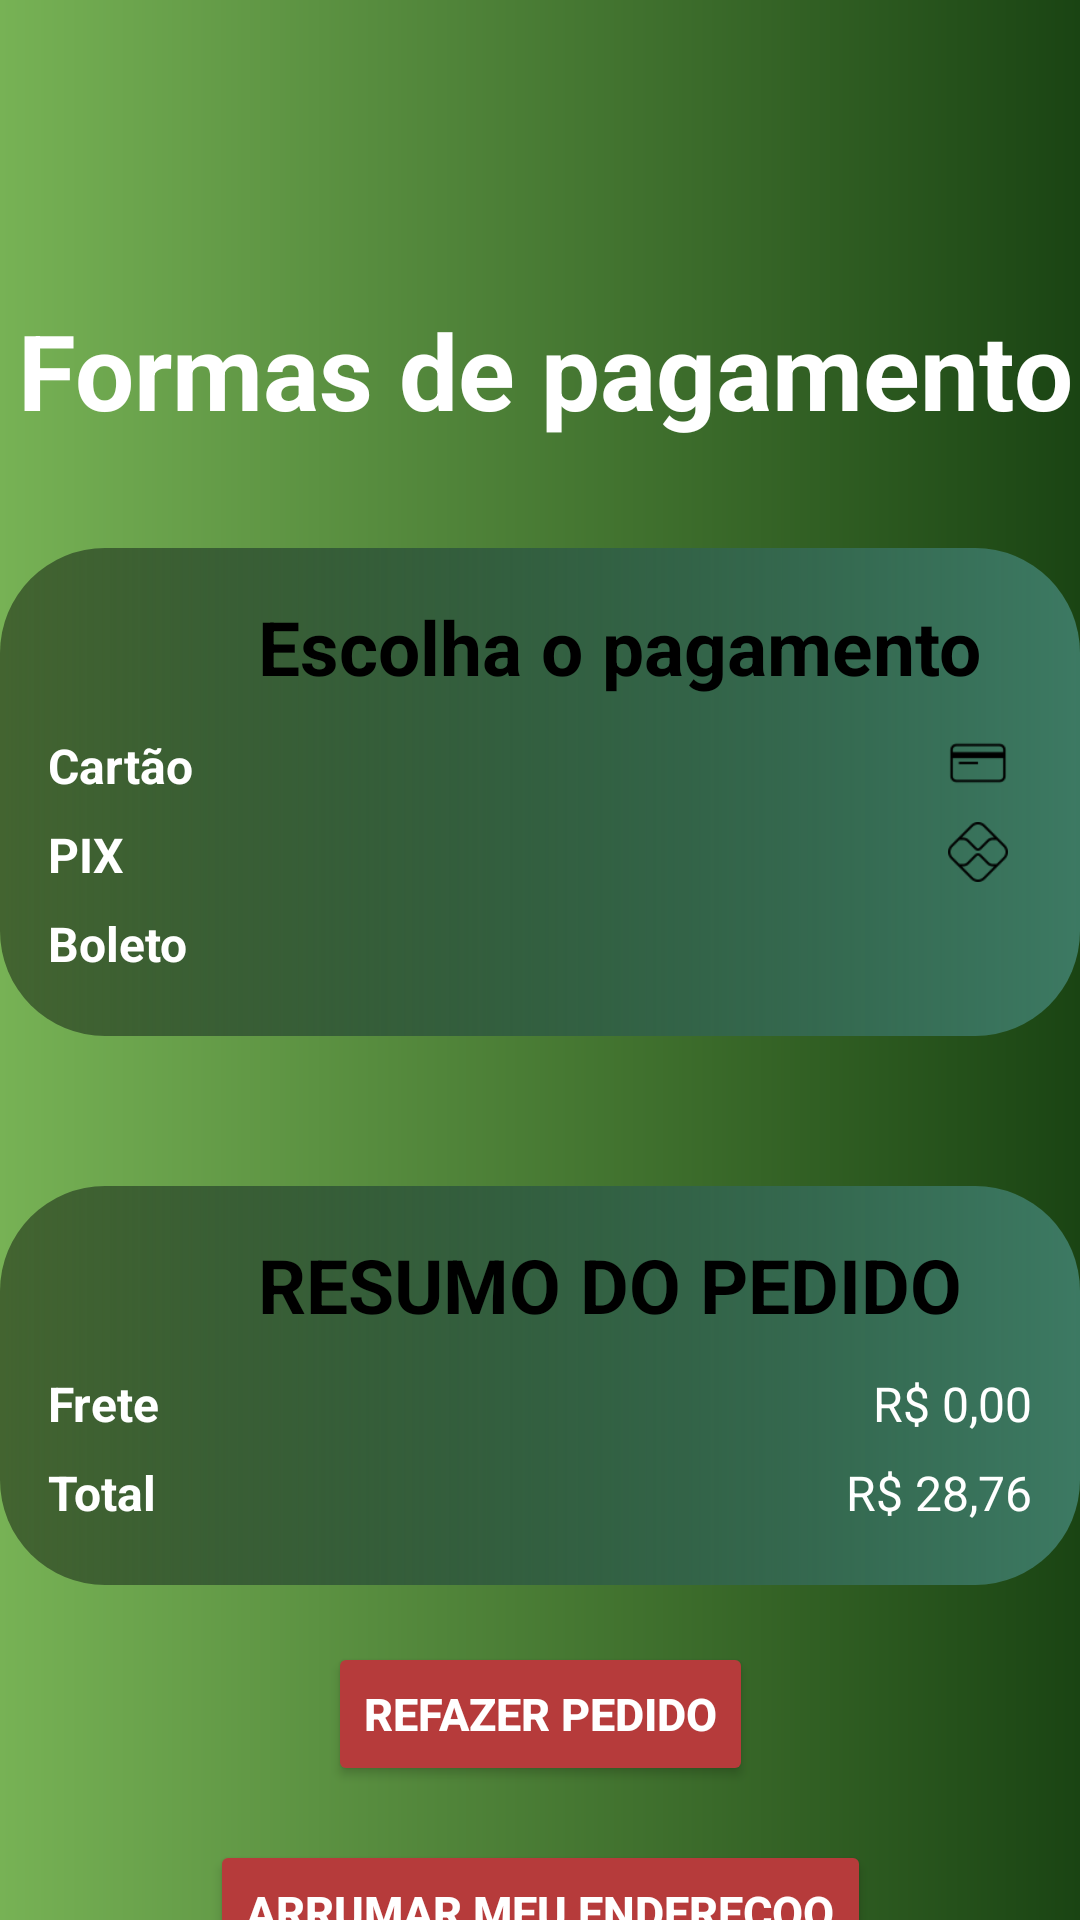

Named icons in this screenshot (1080px x 1920px) and their centers, [x,y]:
cartao: [978,763]
